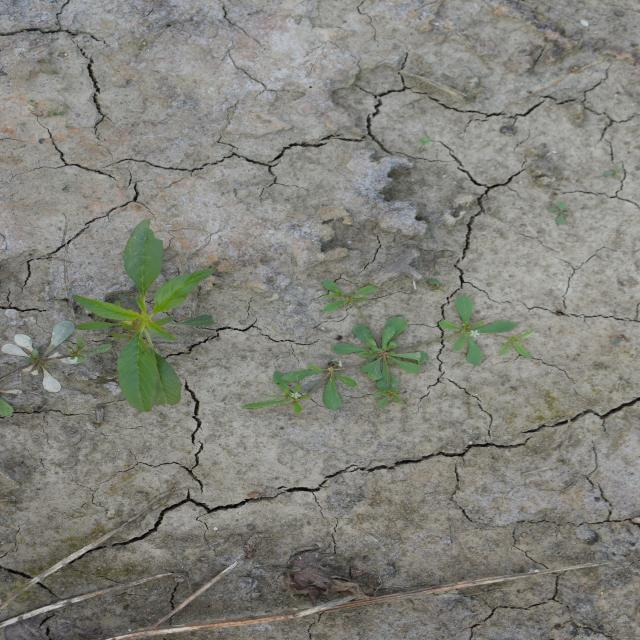Carpetweed: (238, 277, 536, 417), (3, 316, 117, 422)
Waterhemp: (68, 218, 221, 414)
